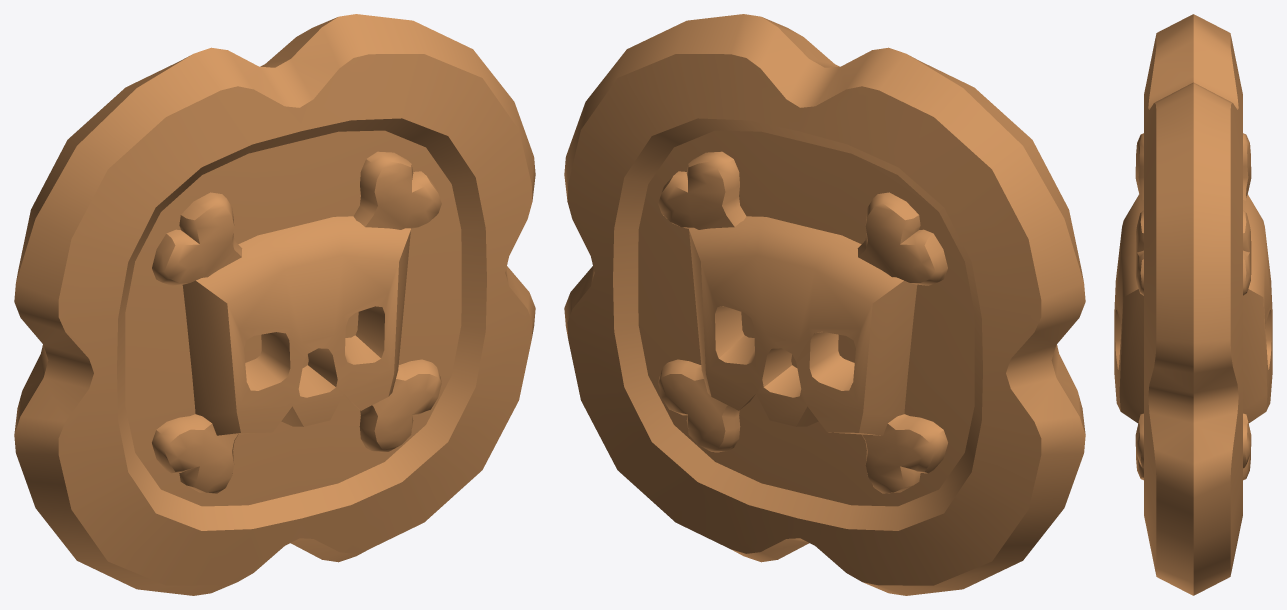
Rendered from doubloon.gltf.glb.
3 views of the same model, side by side, from view 1: azimuth 30°, elevation 25°; view 2: azimuth 150°, elevation 25°; view 3: azimuth 270°, elevation 25° (orthographic). The views are drawn at different scales.
Parts seen in each view (by area): view 1: doubloon; view 2: doubloon; view 3: doubloon.
Boxes of the visible parts, <box> form: doubloon: <box>14,14,535,595</box>; doubloon: <box>564,14,1085,595</box>; doubloon: <box>1114,14,1272,595</box>.
Bounding box in the file's own units: 0.7279 × 0.7279 × 0.2094.
